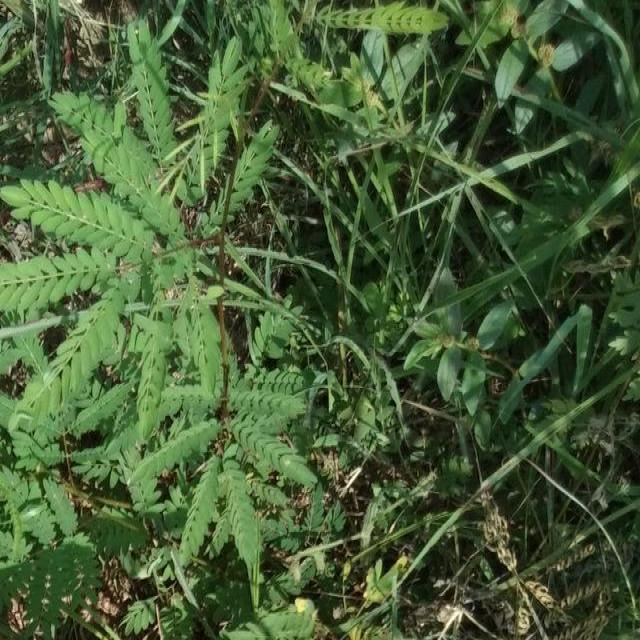weed: (6, 58, 320, 561), (476, 11, 590, 141), (399, 302, 518, 393)
